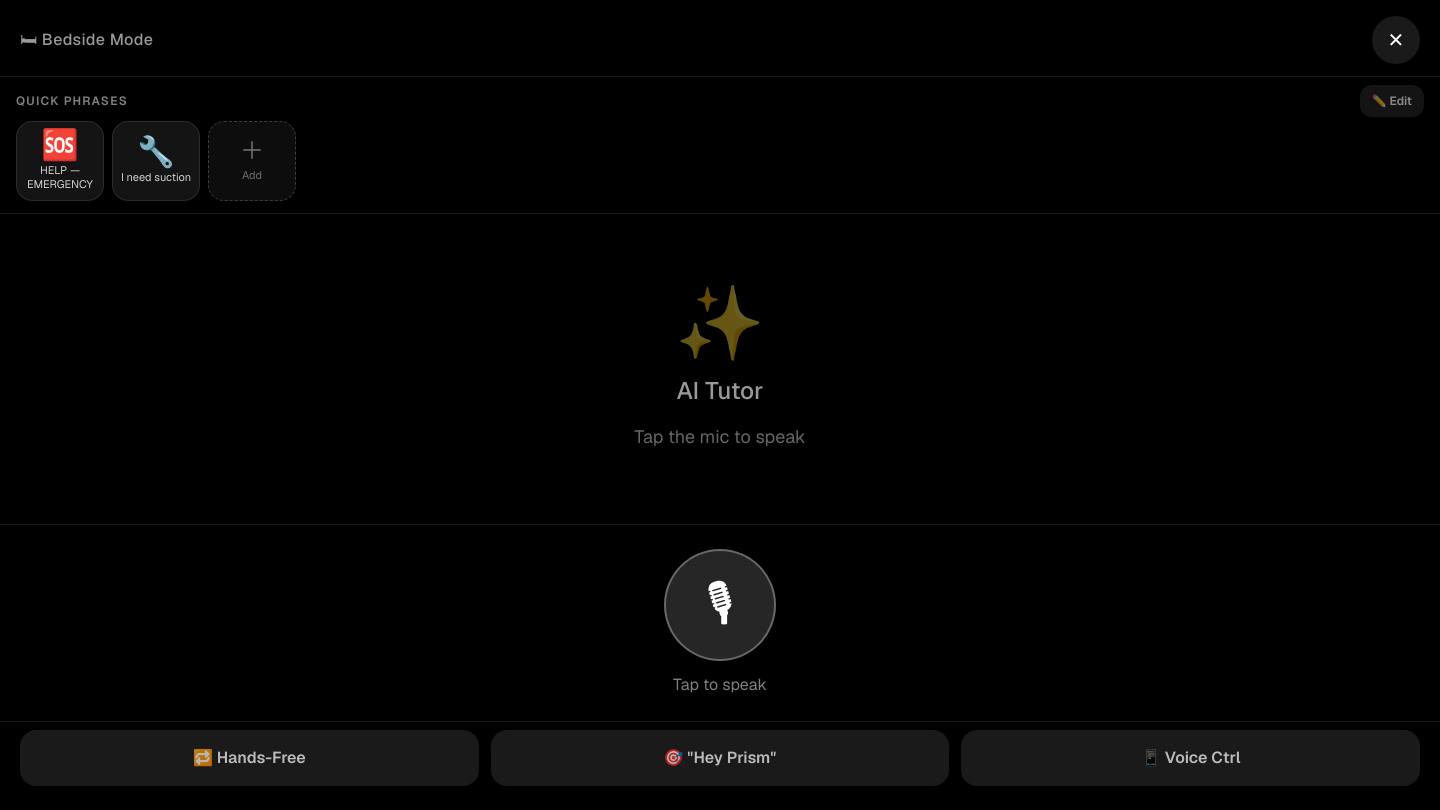
Scenario: BedsideOverlay — Quick Cards section › opens the add-card dialog when ＋ is tapped
The image size is (1440, 810).
Click the button with test id "bedside-add-card-btn": (252, 161) [208, 121, 296, 201]
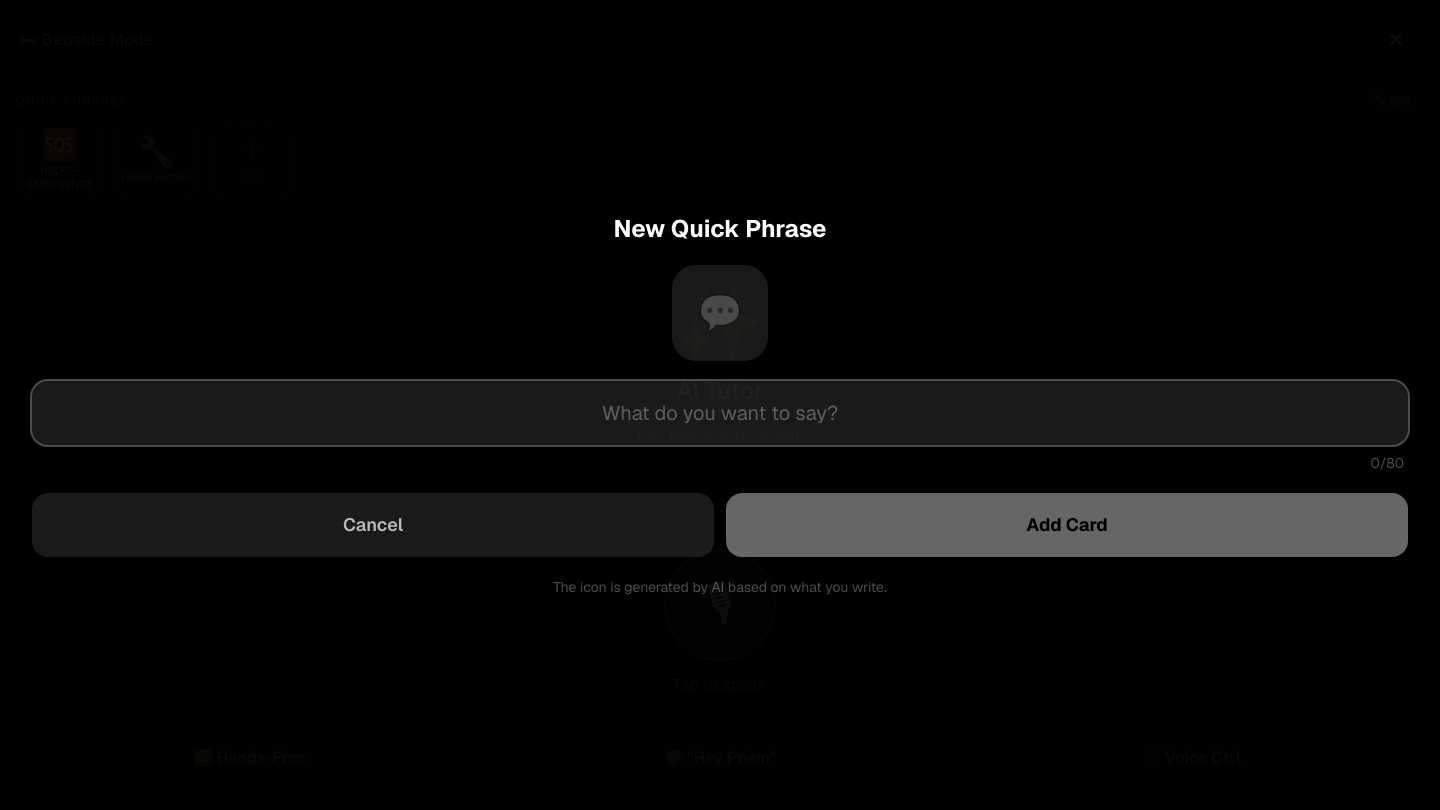
Check: the dialog with test id "bedside-add-card-dialog" is shown
Check: the field named "quick phrase text" is shown, box [32, 381, 1408, 445]
